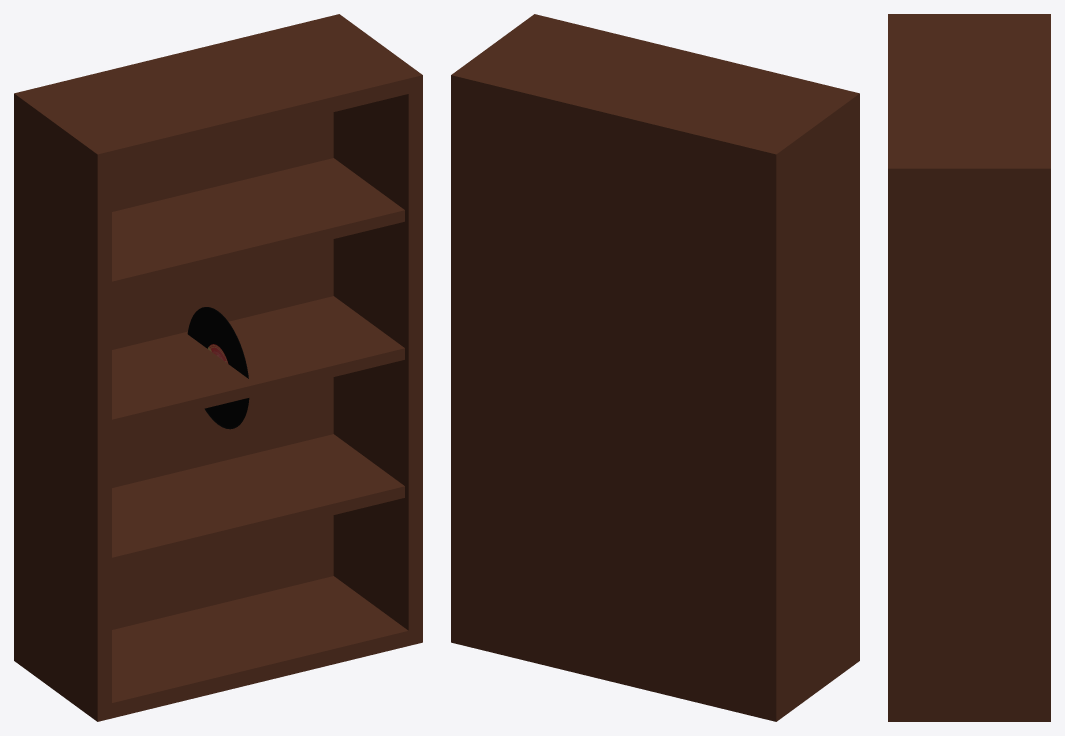
Rendered from vinyl.gltf.
3 views of the same model, side by side, from view 1: azimuth 30°, elevation 25°; view 2: azimuth 150°, elevation 25°; view 3: azimuth 270°, elevation 25° (orthographic). The views are drawn at different scales.
Parts seen in each view (by area): view 1: Bookshelf, Vinyl; view 2: Bookshelf; view 3: Bookshelf.
Boxes of the visible parts, <box> form: Bookshelf: <box>14,14,422,721</box>; Vinyl: <box>187,307,249,429</box>; Bookshelf: <box>451,14,859,721</box>; Bookshelf: <box>888,14,1050,721</box>.
Bounding box in the file's own units: 0.9144 × 1.52 × 0.4064.
3 materials, 1 textured.
